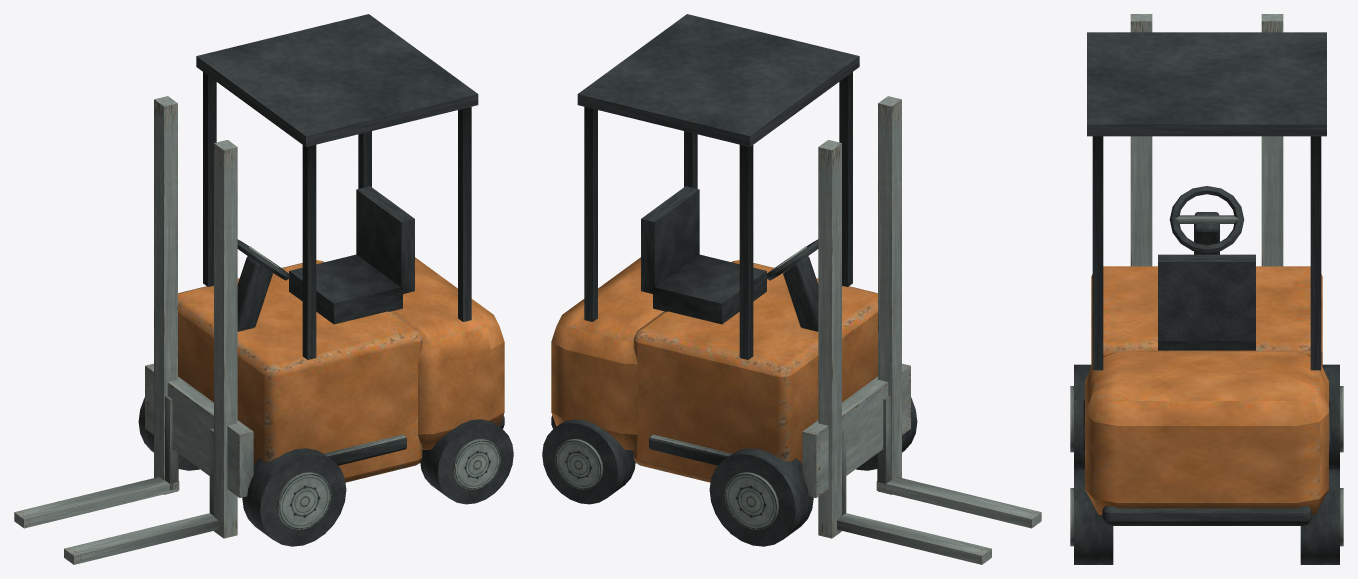
File: forklift.glb
3 views of the same model, side by side, from view 1: azimuth 30°, elevation 25°; view 2: azimuth 150°, elevation 25°; view 3: azimuth 270°, elevation 25° (orthographic). The views are drawn at different scales.
Visible parts, largest first — view 1: Forklift; view 2: Forklift; view 3: Forklift.
Boxes of the visible parts, left/top/right/bottom form: Forklift: left=14, top=14, right=513, bottom=564; Forklift: left=542, top=14, right=1041, bottom=564; Forklift: left=1070, top=14, right=1343, bottom=564.
Bounding box in the file's own units: 2.41 × 2.23 × 1.25.
1 material, 1 textured.
